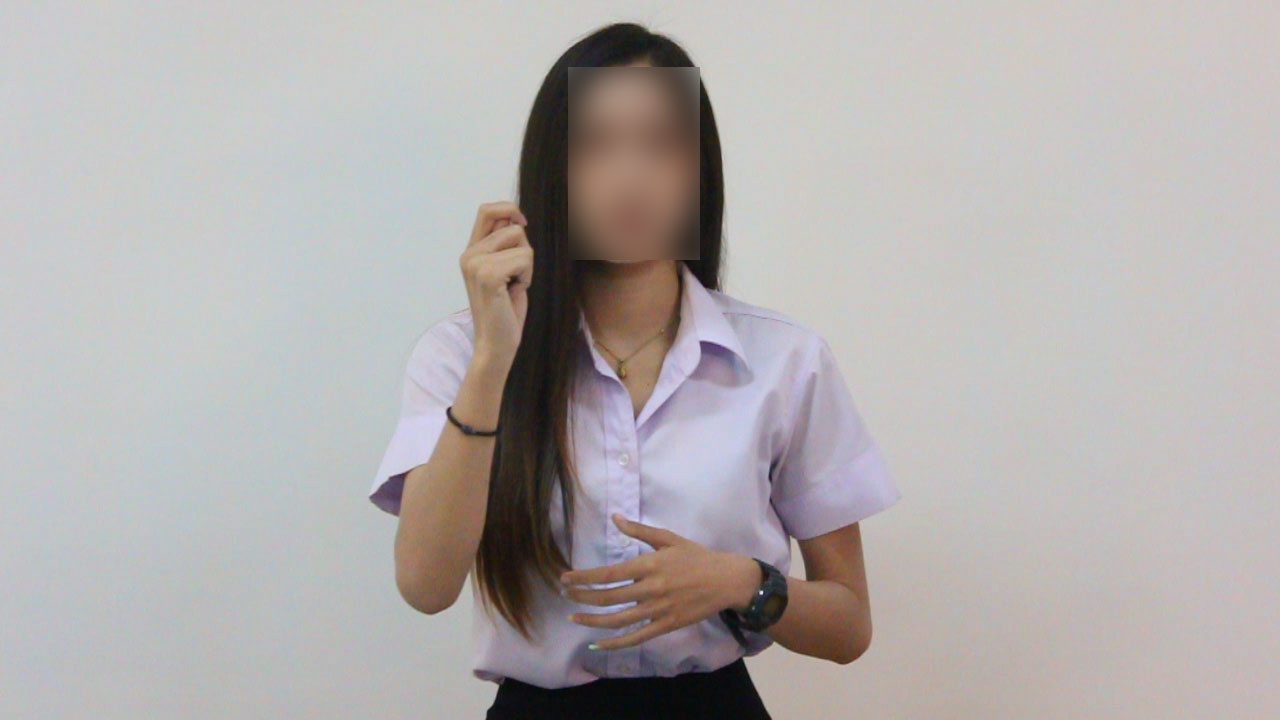or: (451, 195, 543, 366)
